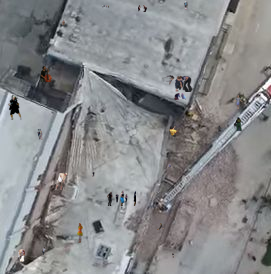Human: (162, 75, 193, 92), (107, 189, 136, 206), (218, 117, 243, 132), (8, 94, 22, 120), (169, 125, 188, 140), (55, 172, 68, 190), (40, 66, 52, 82), (233, 94, 243, 109), (77, 223, 83, 243), (17, 249, 25, 262), (174, 93, 186, 100), (37, 129, 43, 140), (138, 5, 147, 12), (157, 223, 164, 230), (42, 247, 47, 255), (118, 216, 126, 221), (184, 1, 188, 10), (102, 5, 109, 8), (92, 171, 95, 177), (62, 20, 65, 25), (172, 253, 174, 258), (168, 164, 171, 167)
